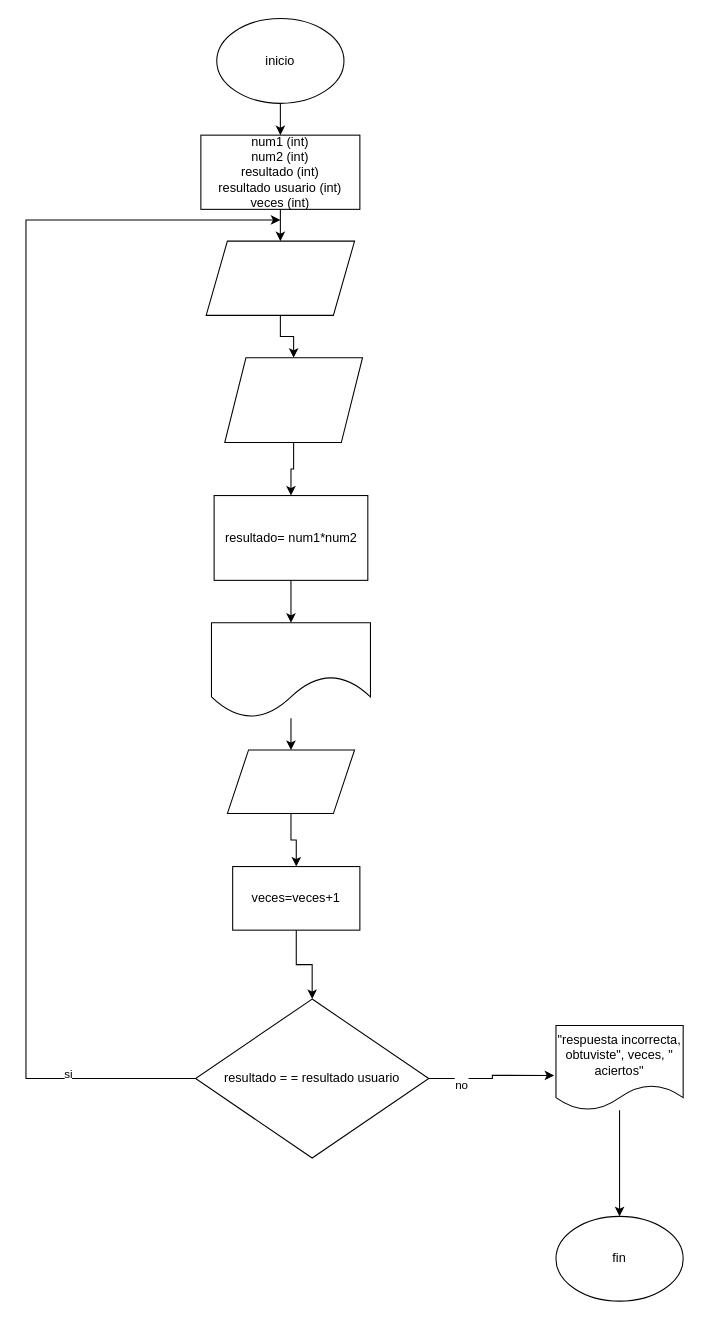
Some shapes in this 702 by 1320 pixel diagram are drawn without their labels. Here are the shapes that lost their labels. From the top down, the centre of each, then its label:
point (280, 277): num1=random (10)
point (293, 400): num2=random (10)
point (290, 670): num1, " ", num2, " ", = " "
point (290, 781): resultado_usuario
